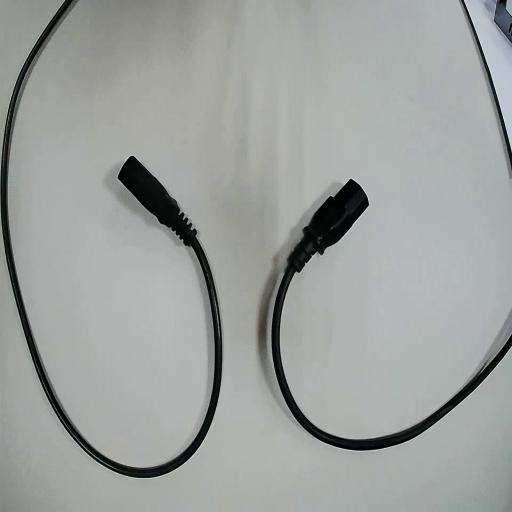wire: (0, 0, 221, 476), (272, 180, 511, 449)
